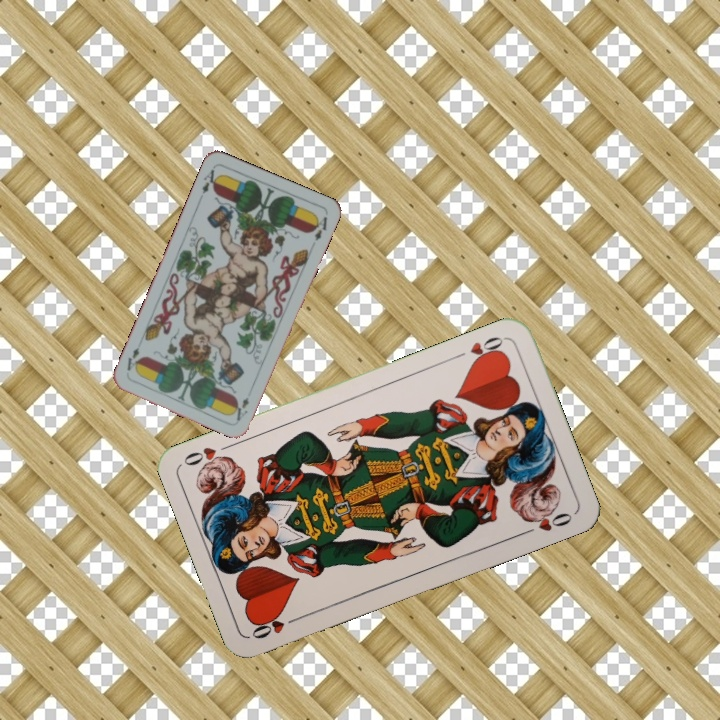EA: (198, 165, 222, 197), (231, 393, 252, 423)
HO: (450, 332, 508, 367), (247, 611, 304, 642)
